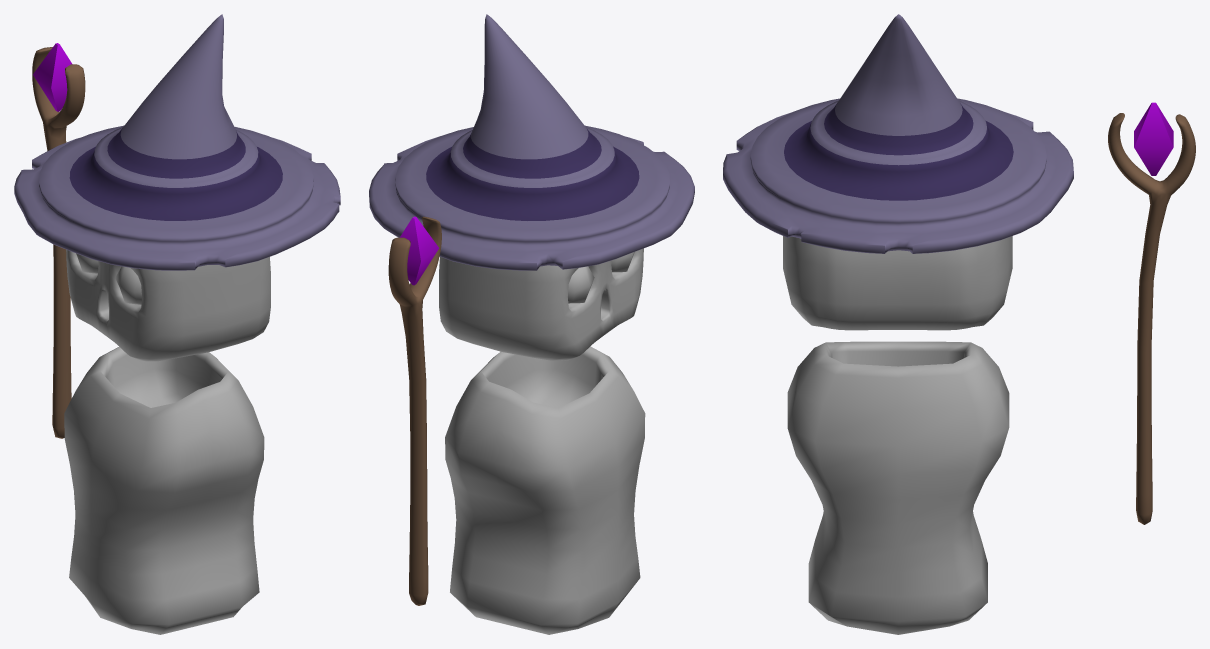
The model's file is Wizard_Blockout.fbx.
The picture shows the model from 3 angles, left to right: view 1: azimuth 30°, elevation 25°; view 2: azimuth 150°, elevation 25°; view 3: azimuth 270°, elevation 25°; orthographic projection. The views are drawn at different scales.
Parts seen in each view (by area): view 1: Body, Hat, Head, Staff1, Crystal, EyeL; view 2: Body, Hat, Head, Staff1, Crystal, EyeR; view 3: Body, Hat, Head, Staff1, Crystal.
Part boxes in pixels (box(x1,y1,x2,y2)): Body: box(64, 346, 264, 634); Hat: box(14, 14, 340, 270); Head: box(66, 249, 270, 361); Staff1: box(32, 47, 85, 438); Crystal: box(33, 43, 72, 111); EyeL: box(115, 266, 141, 304); Body: box(445, 346, 645, 634); Hat: box(369, 14, 694, 270); Head: box(439, 248, 643, 360); Staff1: box(388, 216, 441, 605); Crystal: box(400, 216, 438, 285); EyeR: box(568, 266, 594, 303); Body: box(787, 341, 1009, 634); Hat: box(723, 14, 1073, 253); Head: box(783, 236, 1012, 330); Staff1: box(1108, 113, 1195, 524); Crystal: box(1134, 102, 1173, 175).
Size of the model in its own units: 2.45 by 4.82 by 3.31.
